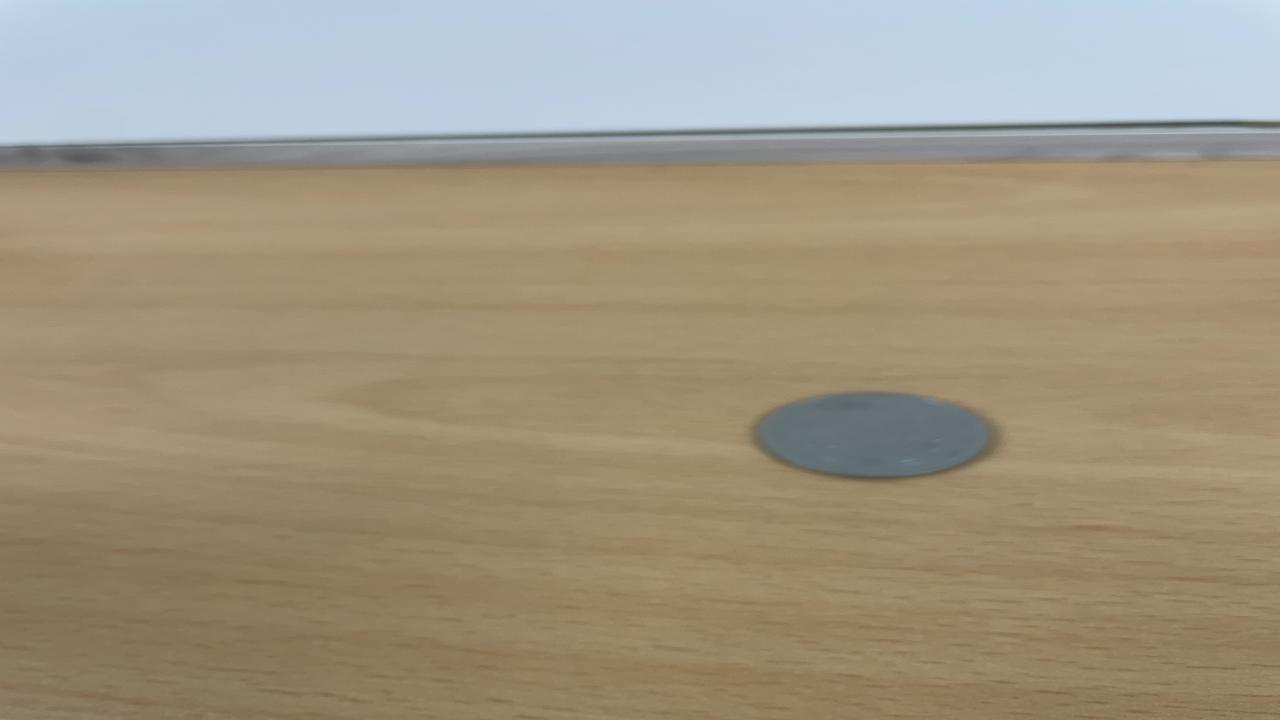coin: (747, 390, 1001, 482)
